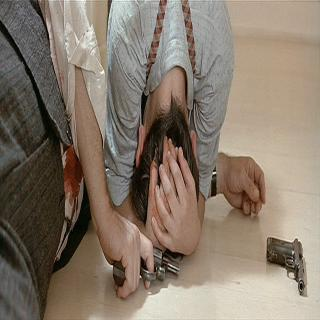gun: (109, 222, 185, 298), (262, 222, 308, 304)
